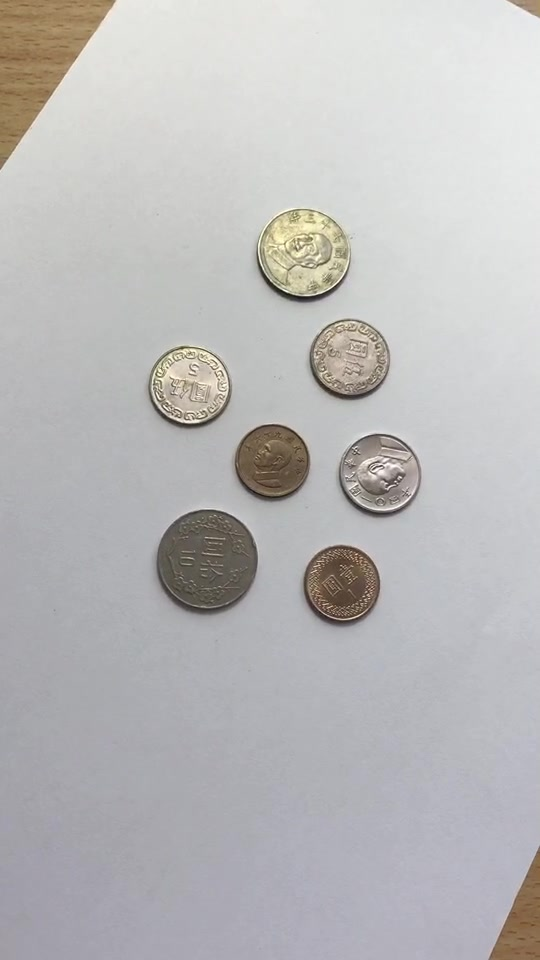1 dallar: (295, 540, 392, 630), (231, 423, 312, 501)
10 dallar: (147, 500, 267, 623), (238, 189, 358, 312)
5 dallar: (134, 340, 238, 435), (297, 313, 401, 408), (333, 426, 437, 521)
